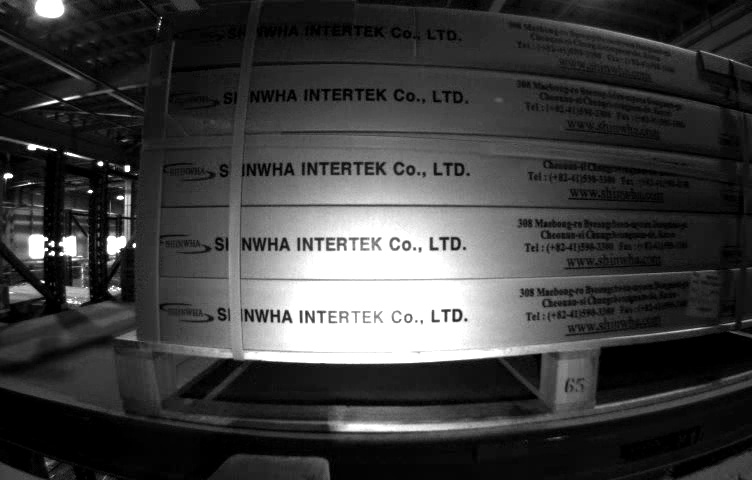True Barcode: (689, 270, 724, 328)
